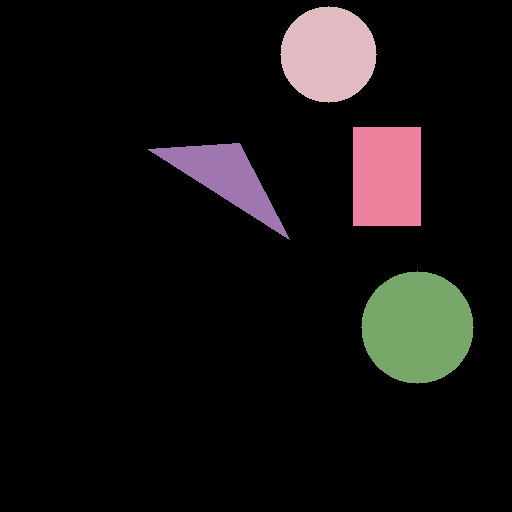circle: (361, 271, 473, 383), (280, 6, 376, 102)
rectangle: (353, 127, 420, 225)
triangle: (148, 143, 289, 239)
